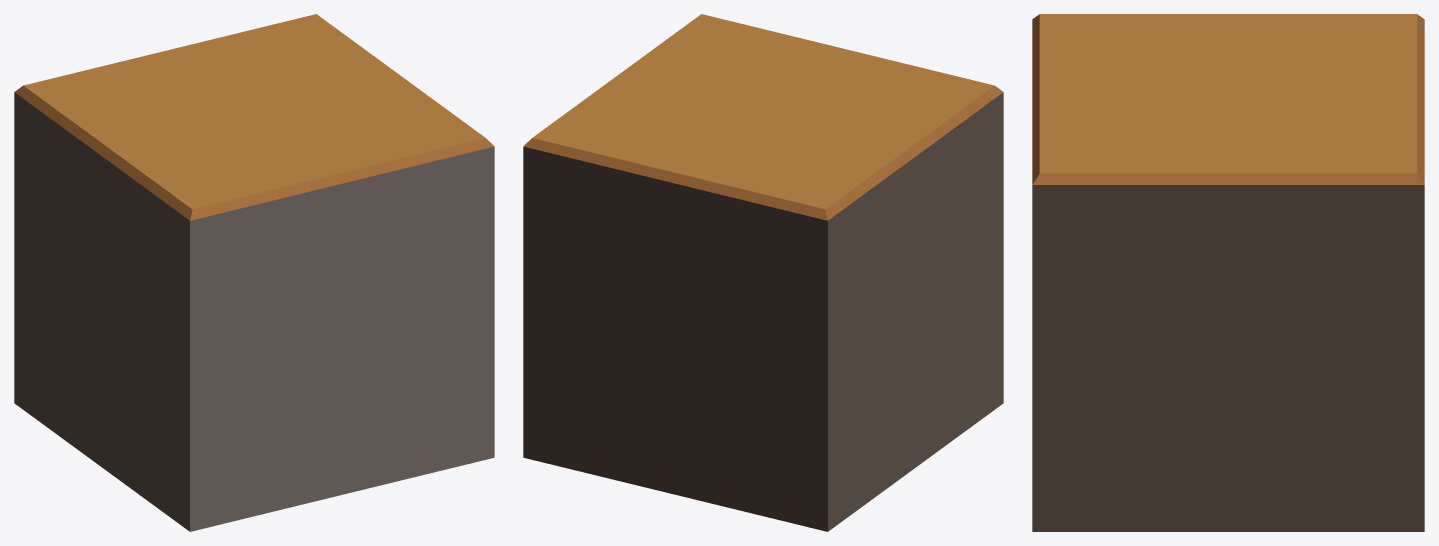
The model's file is earth cube.FBX.
3 views of the same model, side by side, from view 1: azimuth 30°, elevation 25°; view 2: azimuth 150°, elevation 25°; view 3: azimuth 270°, elevation 25° (orthographic). The views are drawn at different scales.
Visible parts, largest first — view 1: earth cube; view 2: earth cube; view 3: earth cube.
Boxes of the visible parts, box(x1,y1,x2,y2) form: earth cube: box(14, 14, 494, 531); earth cube: box(523, 14, 1003, 531); earth cube: box(1032, 14, 1424, 531).
Bounding box in the file's own units: 100 × 100 × 100.
